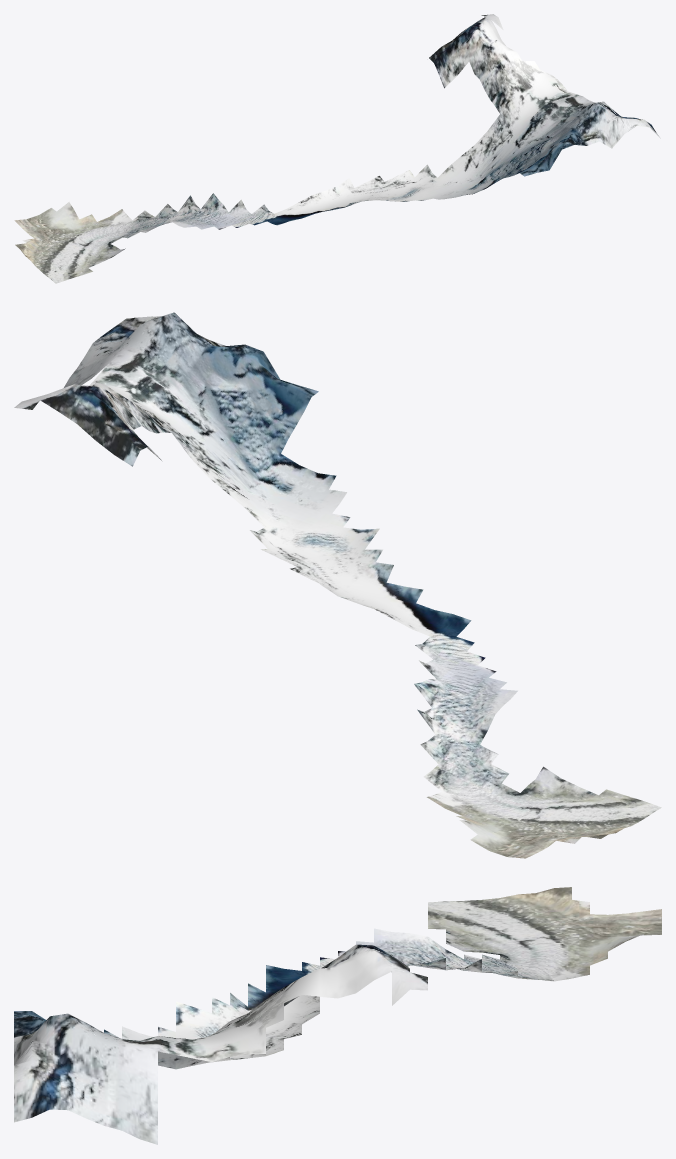
The model's file is MountainPath.glb.
The picture shows the model from 3 angles, top to bottom: view 1: azimuth 30°, elevation 25°; view 2: azimuth 150°, elevation 25°; view 3: azimuth 270°, elevation 25°; orthographic projection. The views are drawn at different scales.
Visible parts, largest first — view 1: MountainPath; view 2: MountainPath; view 3: MountainPath.
Boxes of the visible parts, bbox=[...] form: MountainPath: bbox=[14, 14, 660, 283]; MountainPath: bbox=[14, 312, 661, 858]; MountainPath: bbox=[14, 887, 661, 1144].
Bounding box in the file's own units: 5217 × 1777 × 3440.
1 material, 1 textured.
